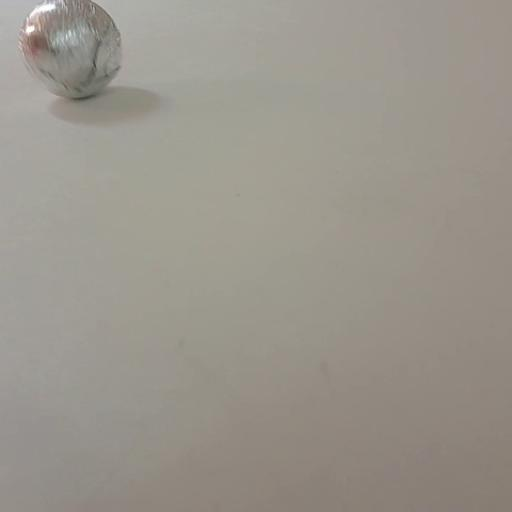alive: (16, 1, 122, 99)
